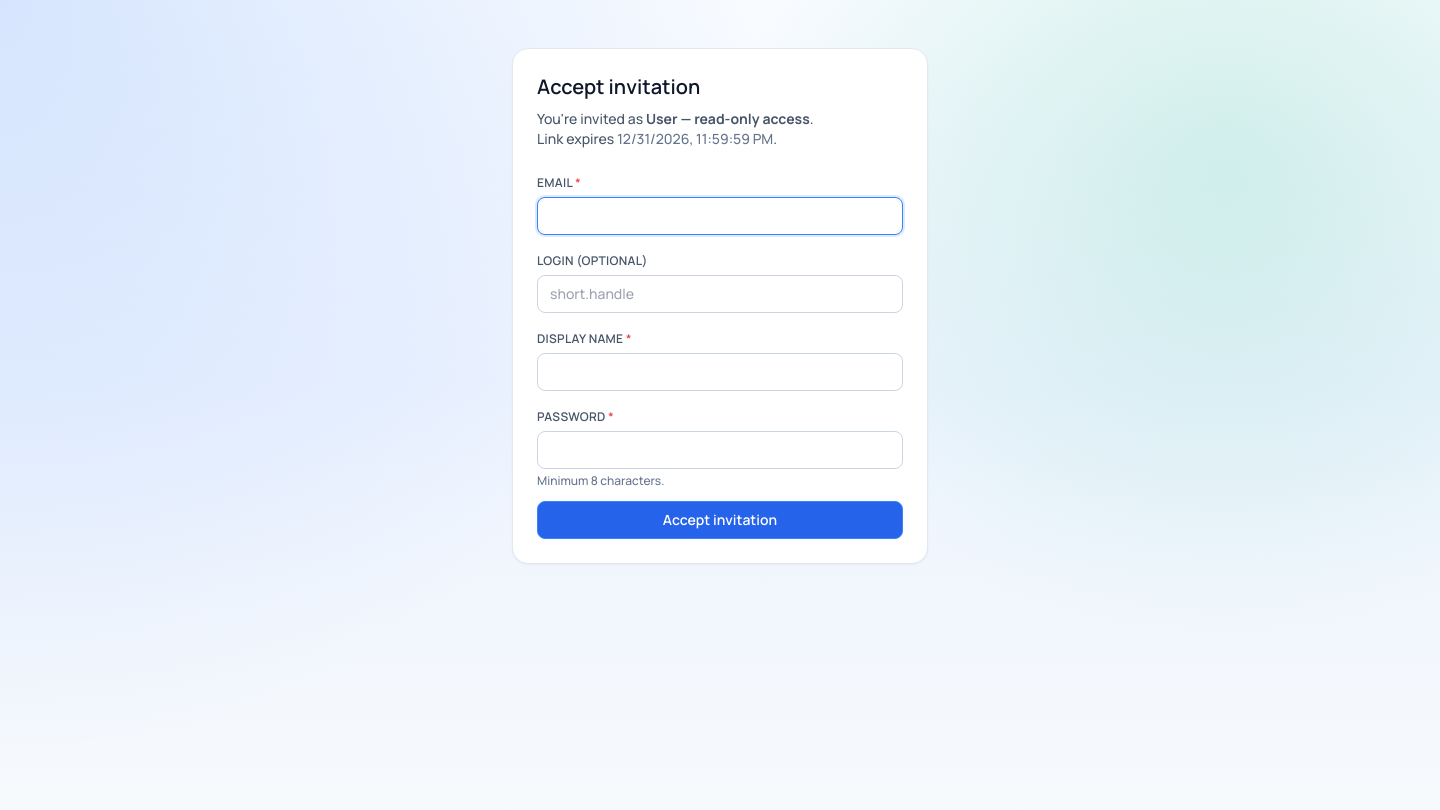
AcceptInvitePage — submit › surfaces CONFLICT_USER_EXISTS as a duplicate-account message
Type "taken@bsg.test" into the field labelled "Email *" at (720, 216), box [537,197,903,235]
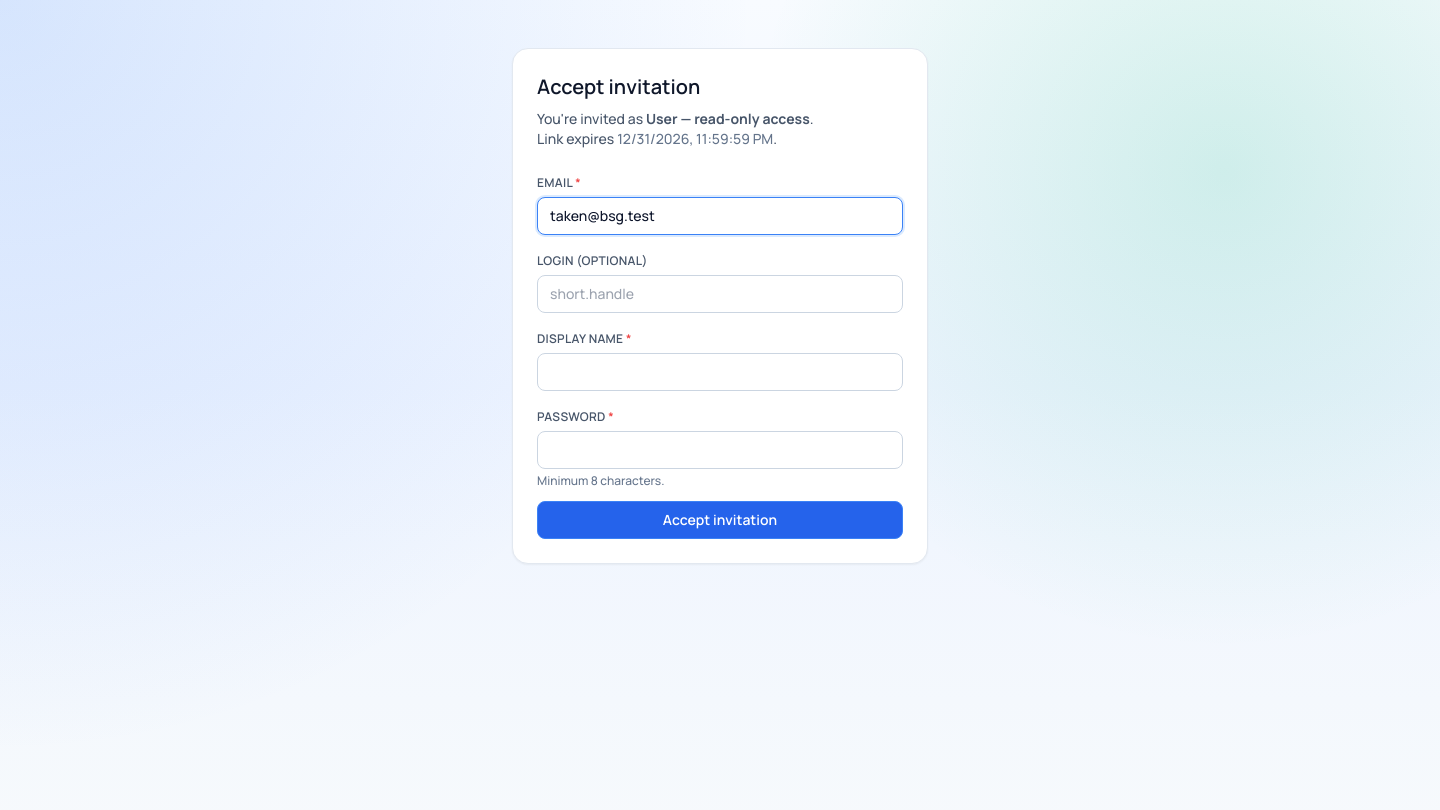
Type "X" into the field labelled "Display name *" at (720, 372), box [537,353,903,391]
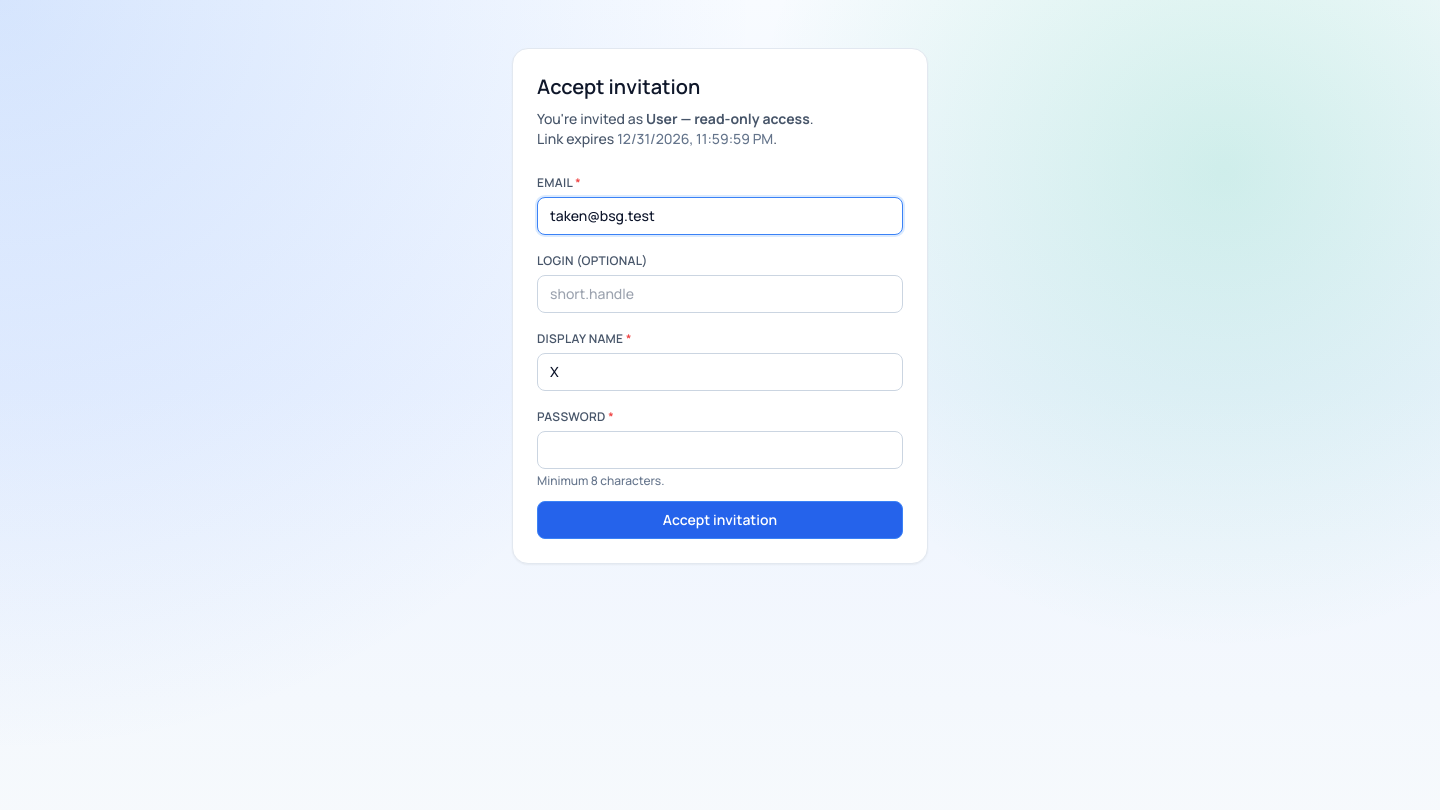
Type "longEnoughPw1" into the password field labelled "Password * Minimum 8 characters." at (720, 450), box [537,431,903,469]
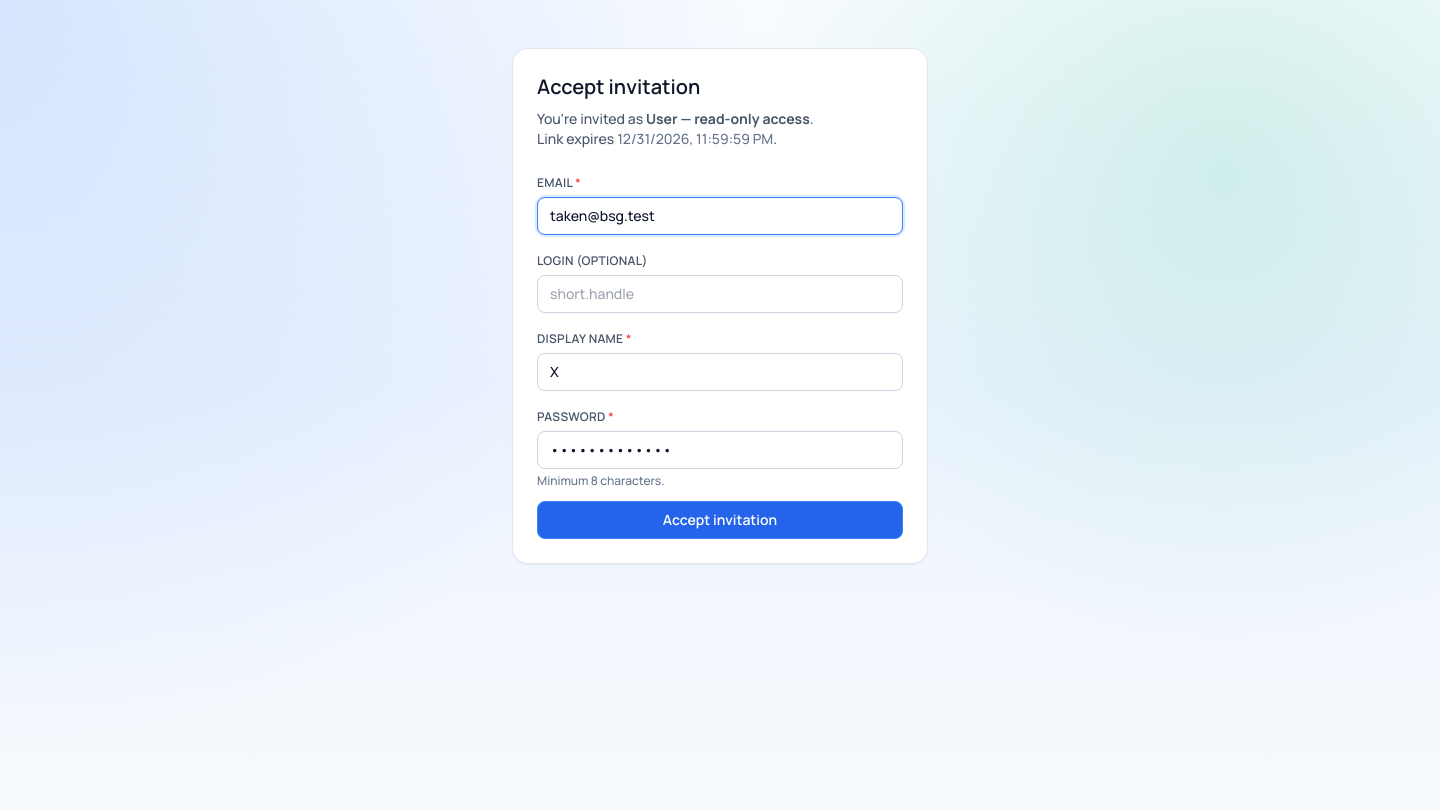
Click the button "Accept invitation" at (720, 520), box [537,501,903,539]
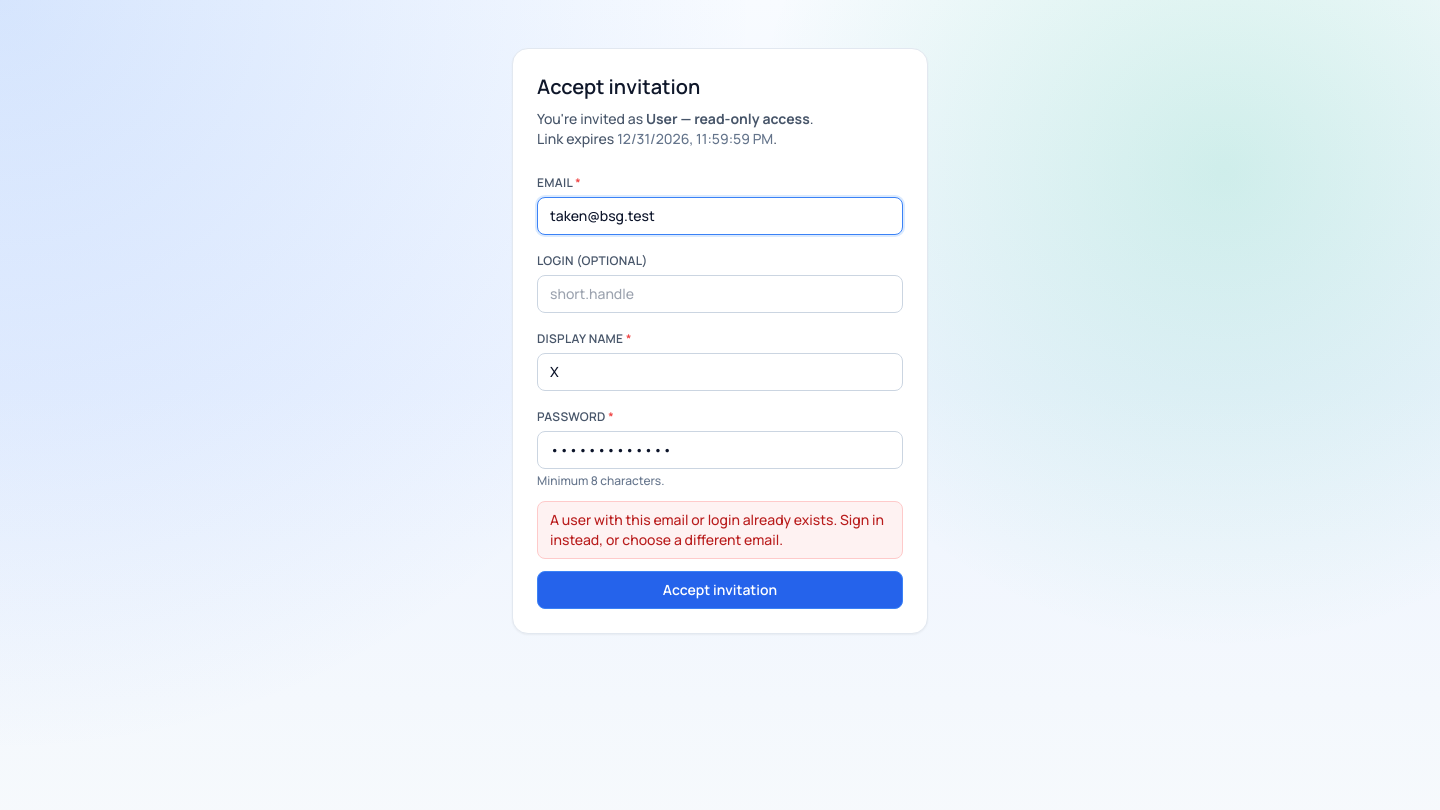
Check: the message shows "A user with this email or login already exists", box [550,510,884,549]
